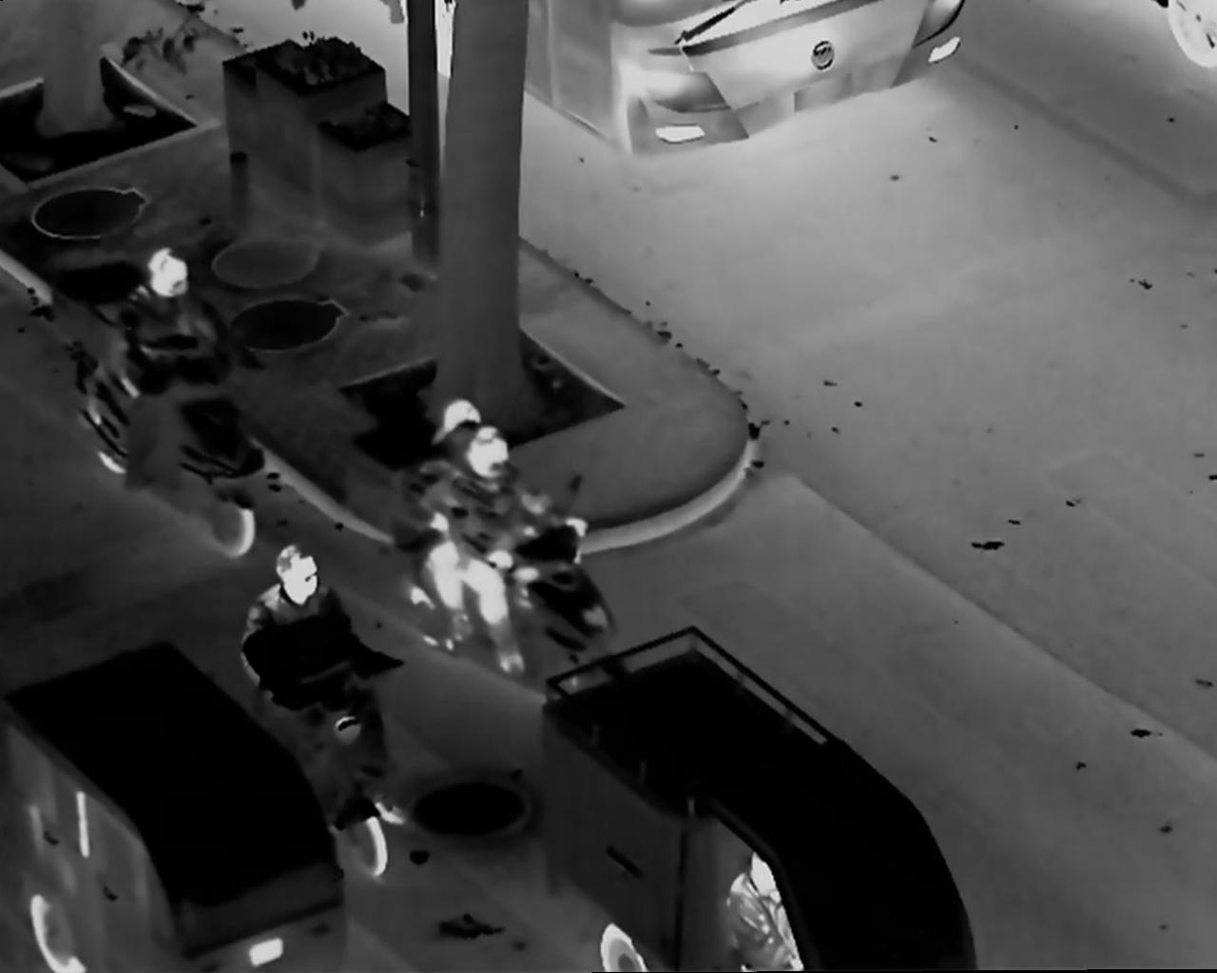person: (242, 543, 407, 829), (463, 424, 588, 682), (123, 239, 235, 460), (412, 391, 477, 641), (722, 849, 805, 973)
